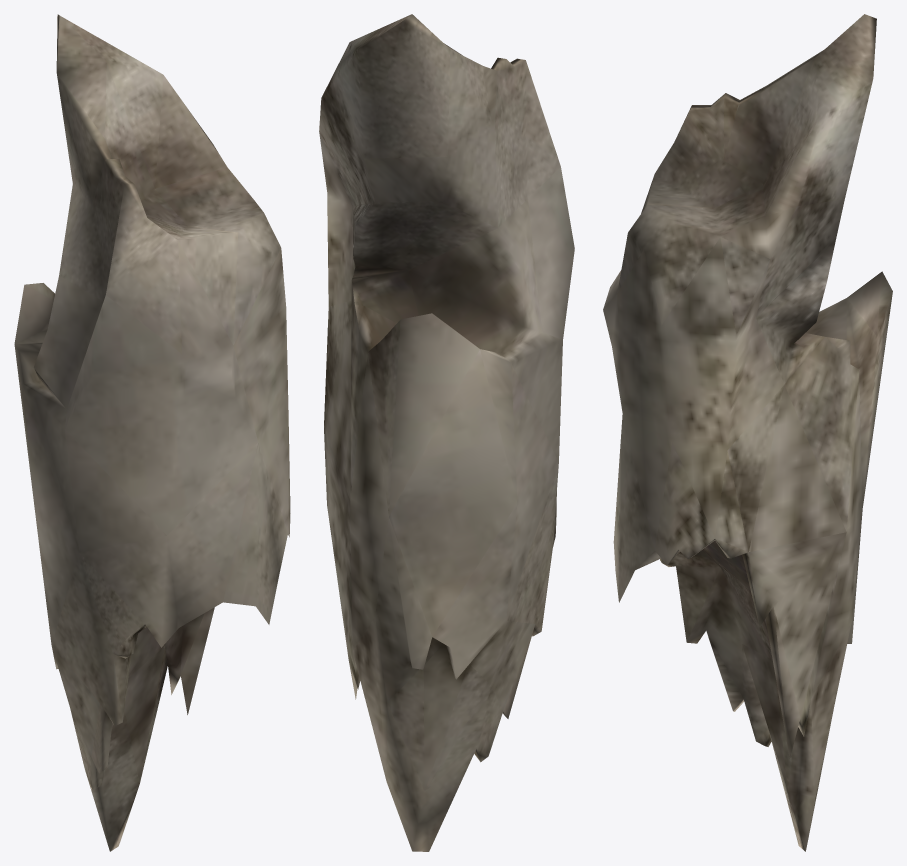
File: mantle_rib.glb
3 views of the same model, side by side, from view 1: azimuth 30°, elevation 25°; view 2: azimuth 150°, elevation 25°; view 3: azimuth 270°, elevation 25° (orthographic). The views are drawn at different scales.
Parts seen in each view (by area): view 1: tripo_node_914d81d6-9acc-47ef-9973-65a8d4236412; view 2: tripo_node_914d81d6-9acc-47ef-9973-65a8d4236412; view 3: tripo_node_914d81d6-9acc-47ef-9973-65a8d4236412.
Part boxes in pixels (x1,y1,x2,y2): tripo_node_914d81d6-9acc-47ef-9973-65a8d4236412: [14, 14, 290, 851]; tripo_node_914d81d6-9acc-47ef-9973-65a8d4236412: [319, 14, 574, 851]; tripo_node_914d81d6-9acc-47ef-9973-65a8d4236412: [603, 14, 892, 851].
Bounding box in the file's own units: 0.2754 × 0.998 × 0.3184.
Materials: 1 (1 with a texture image).
